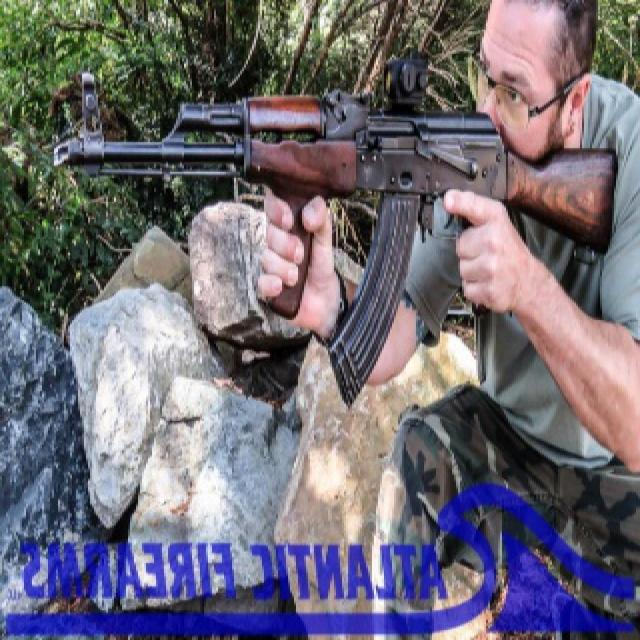rifle: (31, 84, 621, 402)
